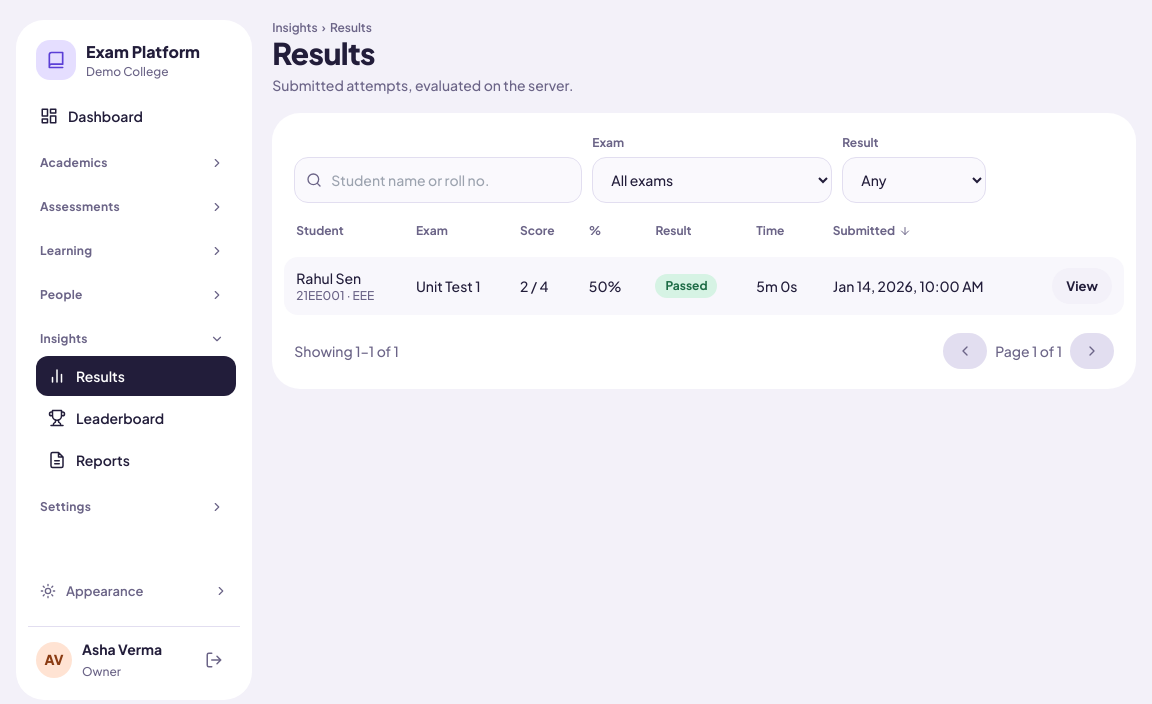
Test: insights and dashboard › results open a drawer with each answer next to the correct one
Click the button with aria-label "View answers of Rahul Sen".
click(1082, 286)  # box [1052,268,1112,304]
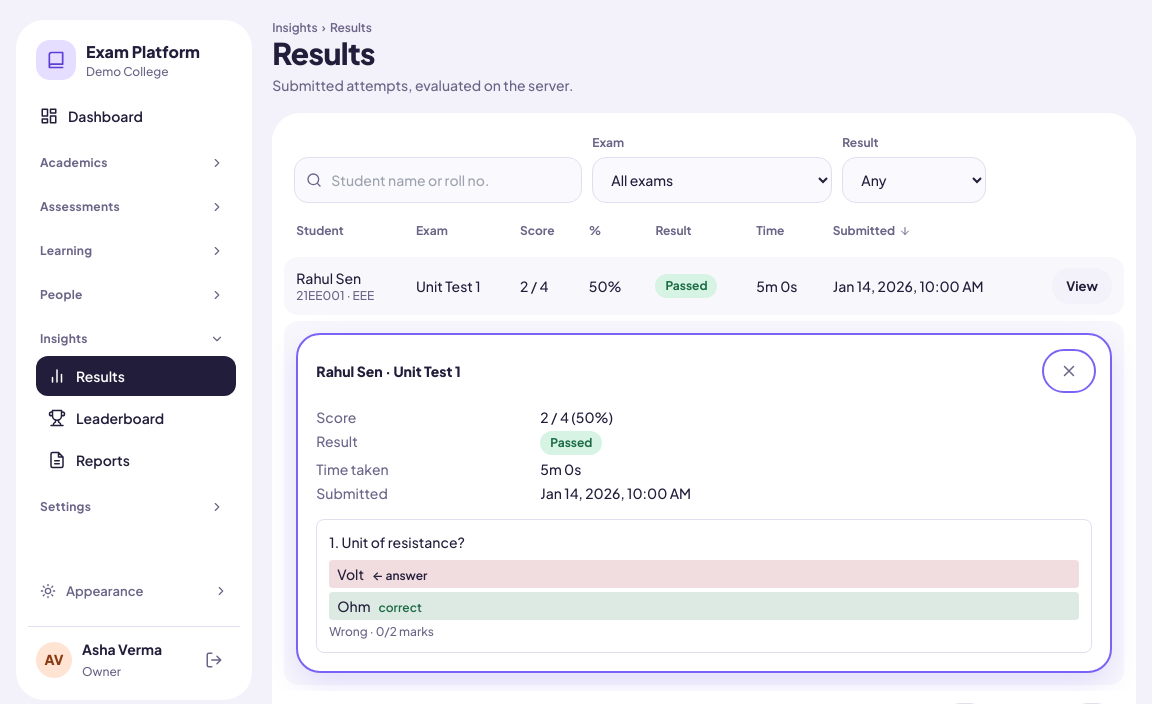
Now the text "1. Unit of resistance?" is shown, box [329,533,465,551]
Now the text "Wrong · 0/2 marks" is shown, box [329,624,434,639]
